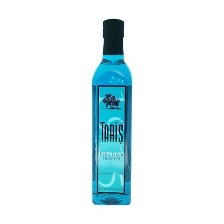bottle: (85, 14, 137, 208)
